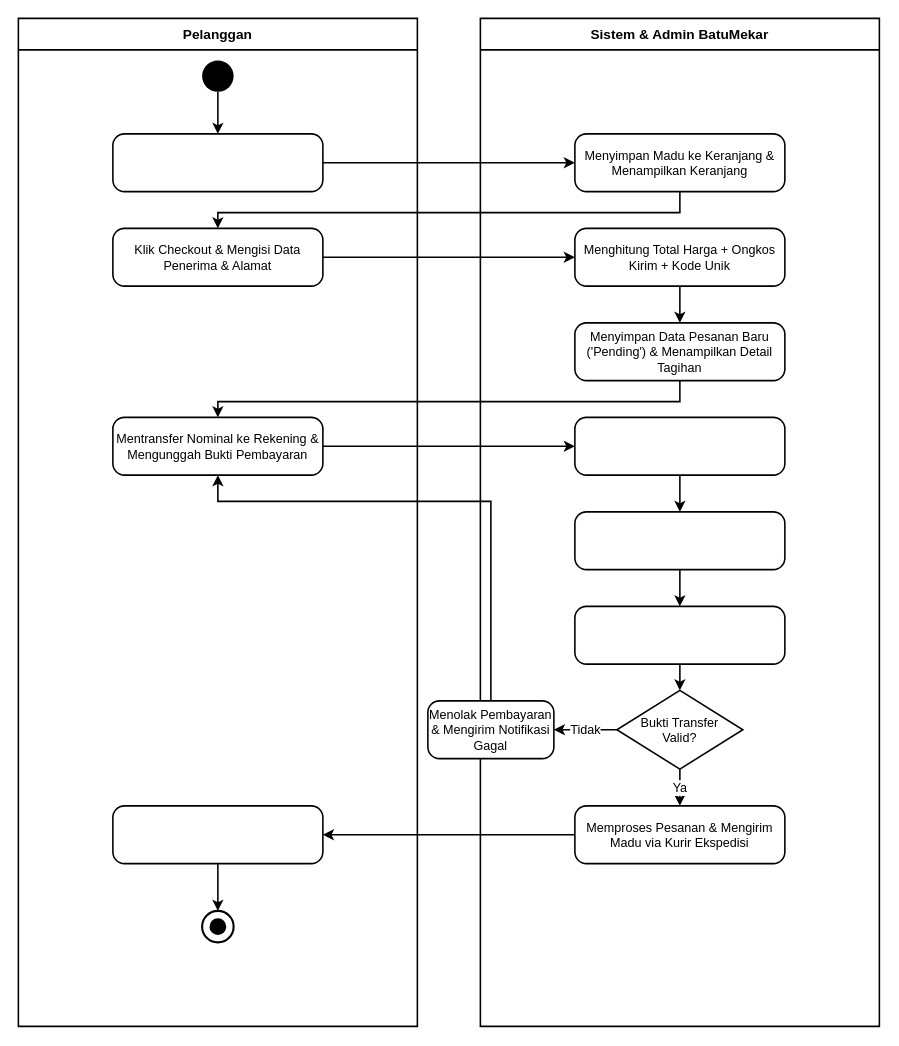
The diagram is 899 pixels wide and 1046 high, and some of its shapes have lost their labels. The shapes that lost their labels are listed below. From the top down, each one's centre as x and y in pixels, then its label:
At (x=217, y=162): "Memilih Madu & Klik Tambah ke Keranjang".
At (x=679, y=445): "Menyimpan Bukti & Memperbarui Status Pesanan Menjadi 'Sudah Bayar'".
At (x=679, y=540): "Menampilkan Notifikasi Transaksi Baru di Dashboard Admin".
At (x=679, y=634): "Admin Memverifikasi Bukti Transfer Bank".
At (x=217, y=834): "Menerima Paket Madu & Menandai Selesai".
